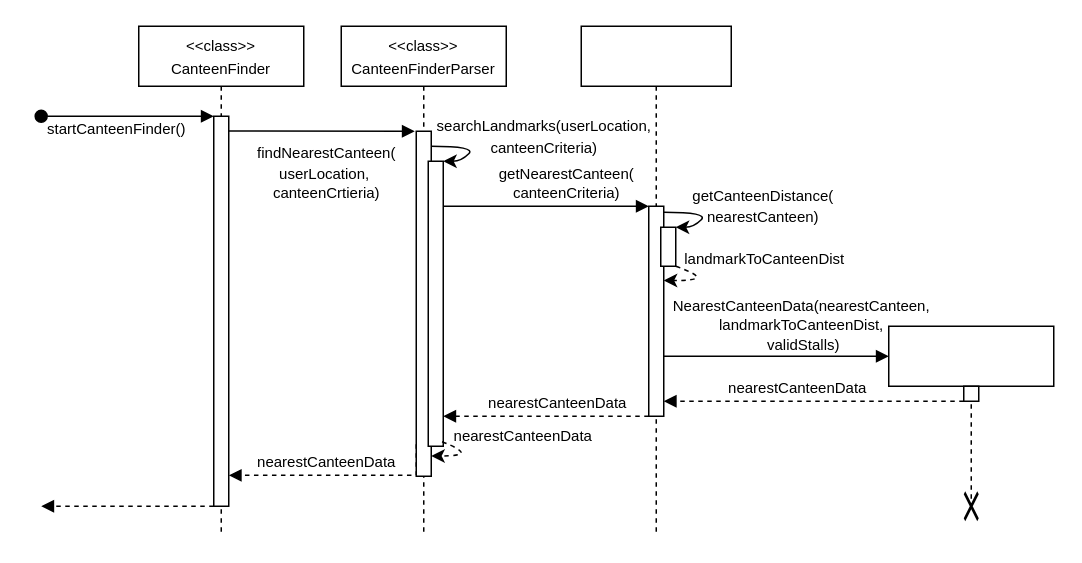
Image size: 1082x563. Some labels were removed from this diagram. Each missing label, with the centre of its shape:
landmark:Landmark: (655,280)
nearestCanteenData :NearestCanteenData: (970,415)
